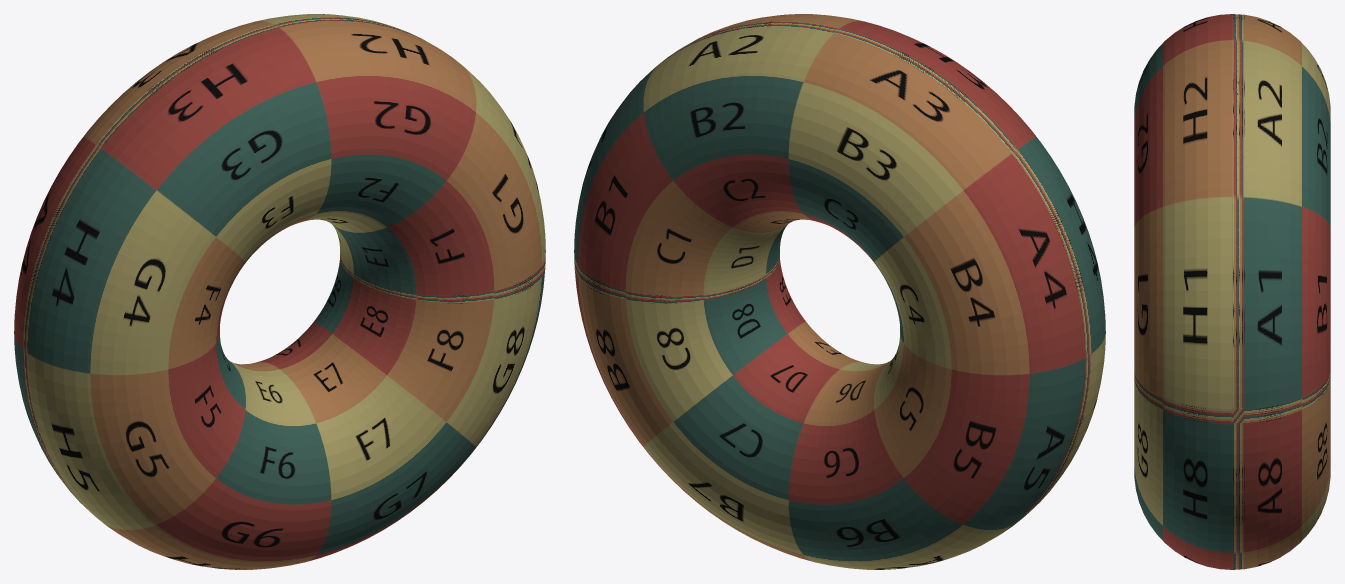
File: texture_torus_R3_r8.glb
The picture shows the model from 3 angles, left to right: view 1: azimuth 30°, elevation 25°; view 2: azimuth 150°, elevation 25°; view 3: azimuth 270°, elevation 25°; orthographic projection. The views are drawn at different scales.
Parts seen in each view (by area): view 1: world; view 2: world; view 3: world.
Boxes of the visible parts, bbox=[...] form: world: bbox=[14, 14, 545, 569]; world: bbox=[574, 14, 1105, 569]; world: bbox=[1134, 14, 1330, 569].
Size of the model in its own units: 25.78 by 25.78 by 9.09.
1 material, 1 textured.
